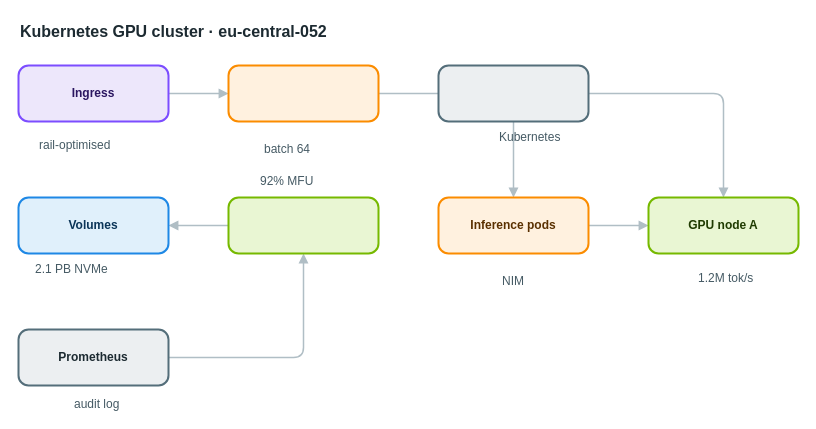
The diagram is 816 pixels wide and 429 high, and some of its shapes have lost their labels. The shapes that lost their labels are listed below. From the top down, each one's centre as x and y in pixels, then its label:
At (303,93): "API service".
At (513,93): "GPU operator".
At (303,225): "Trainer pods".
